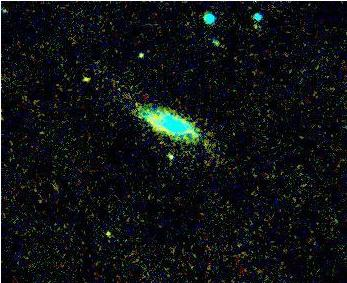star: (92, 219, 122, 249)
